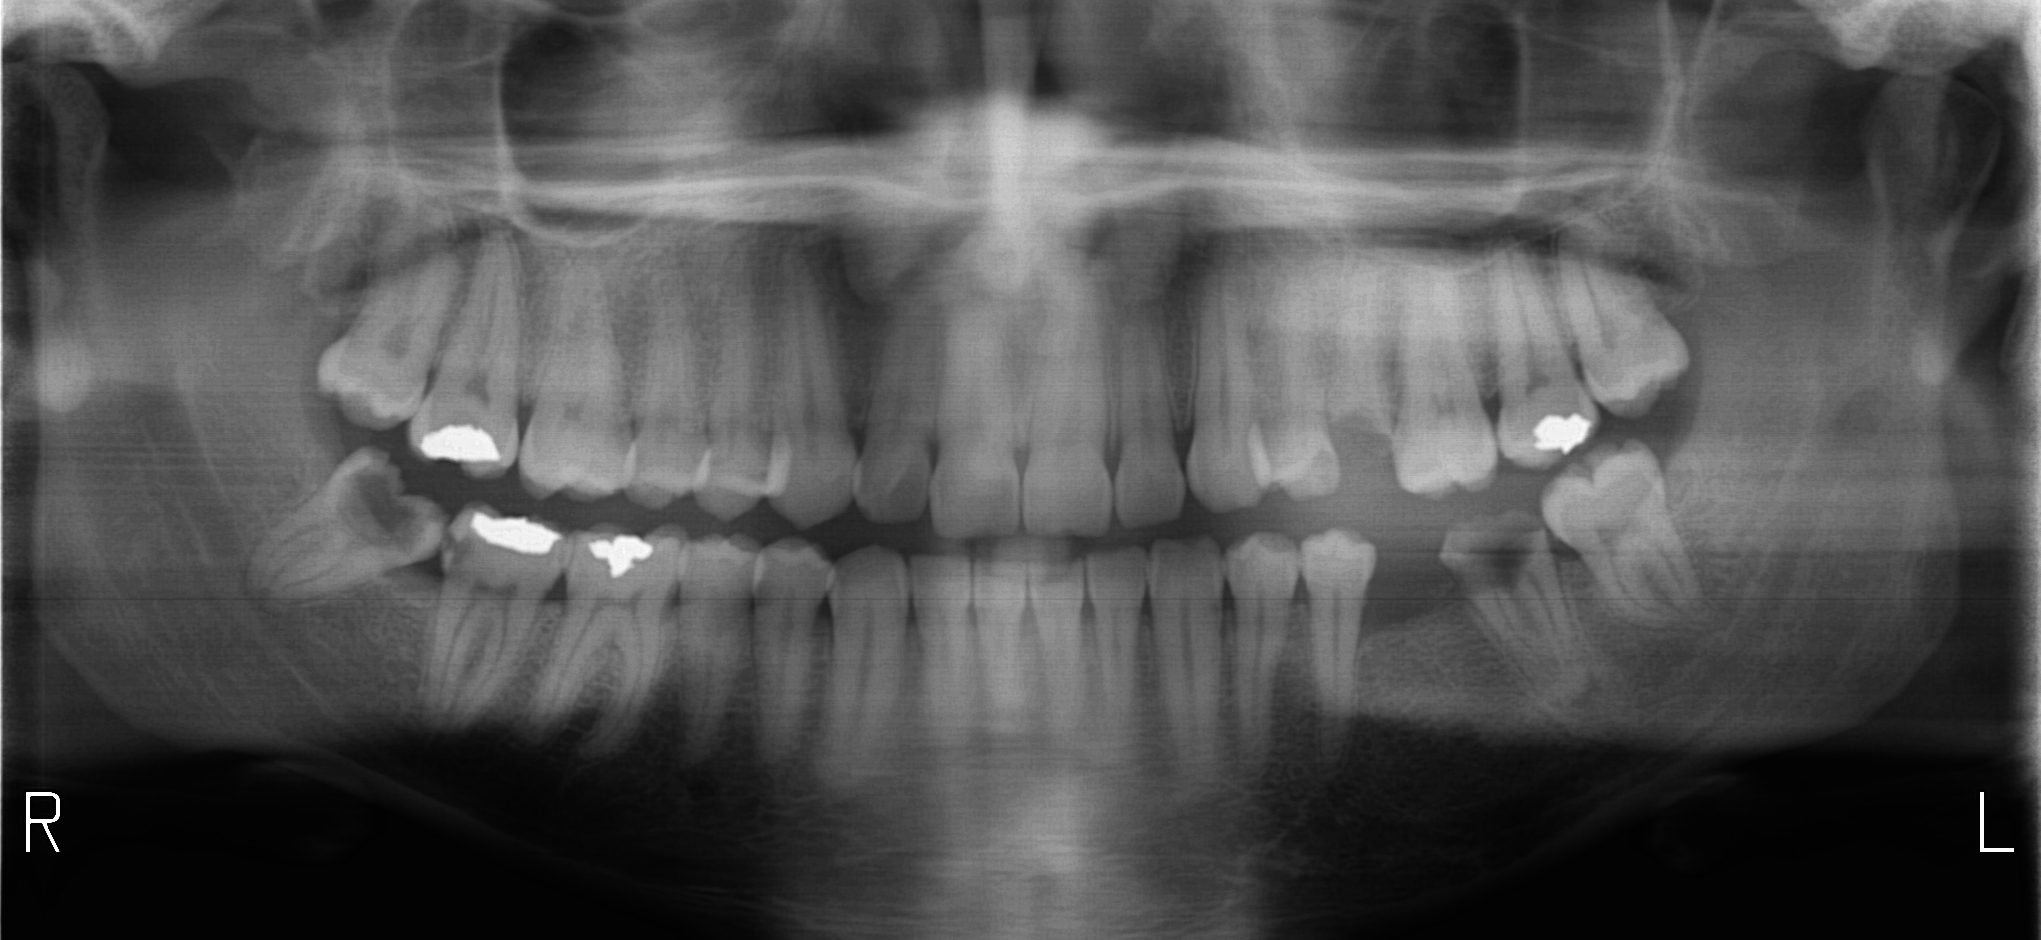cavity: (1459, 532, 1542, 599), (344, 471, 418, 546), (446, 532, 463, 566), (754, 585, 767, 607)
